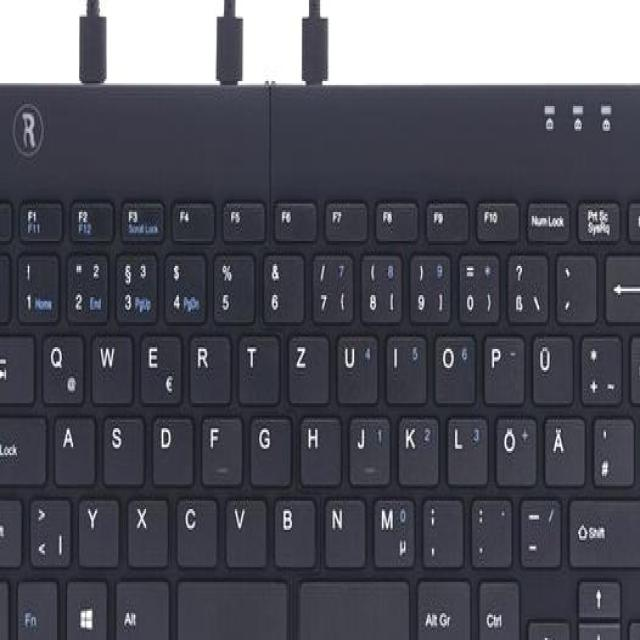0: (454, 247, 498, 322)
1: (13, 247, 56, 320)
2: (63, 245, 107, 320)
3: (111, 245, 156, 320)
4: (161, 245, 203, 320)
5: (209, 247, 252, 320)
6: (258, 247, 302, 320)
7: (308, 247, 352, 322)
8: (357, 247, 399, 320)
9: (405, 247, 449, 322)
a: (50, 409, 92, 480)
accent: (551, 245, 594, 318)
ae: (540, 409, 583, 482)
alt-left: (111, 571, 168, 640)
altgr-right: (412, 571, 469, 640)
b: (269, 491, 314, 563)
c: (172, 491, 216, 563)
caret: (0, 247, 21, 320)
comma: (417, 491, 460, 563)
d: (147, 409, 191, 482)
del: (601, 245, 640, 320)
e: (135, 328, 179, 401)
enter: (625, 324, 640, 482)
f: (196, 409, 240, 482)
g: (245, 409, 289, 482)
h: (295, 409, 339, 482)
hash: (589, 409, 630, 482)
i: (382, 328, 425, 401)
j: (346, 409, 388, 482)
k: (394, 409, 437, 482)
keyboard: (0, 75, 640, 640)
l: (443, 409, 485, 482)
less: (24, 491, 68, 566)
m: (369, 491, 413, 566)
minus: (516, 491, 560, 566)
n: (320, 491, 363, 563)
o: (430, 328, 474, 401)
oe: (492, 410, 534, 485)
p: (480, 328, 524, 401)
plus: (576, 328, 620, 401)
point: (466, 491, 510, 563)
q: (37, 326, 82, 401)
r: (185, 328, 229, 401)
s: (97, 409, 141, 482)
shift-left: (0, 491, 28, 563)
shift-lock: (0, 407, 44, 482)
shift-right: (564, 490, 640, 565)
space: (266, 79, 640, 199), (296, 571, 408, 640), (175, 571, 287, 640)
ss: (503, 245, 545, 320)
strg-left: (0, 571, 21, 640)
strg-right: (473, 571, 517, 640)
t: (234, 328, 276, 401)
tab: (0, 326, 34, 401)
u: (332, 328, 376, 401)
ue: (527, 328, 571, 401)
v: (221, 491, 264, 563)
w: (87, 326, 131, 401)
x: (124, 491, 166, 563)
y: (74, 491, 117, 563)
z: (284, 328, 328, 401)
